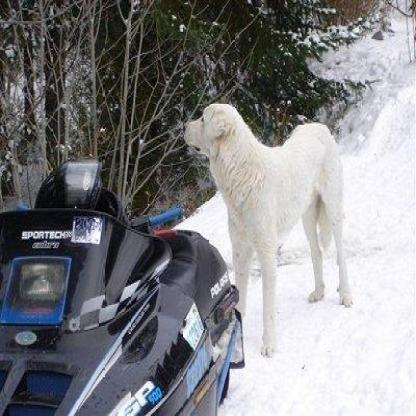kuvasz: (180, 98, 351, 358)
